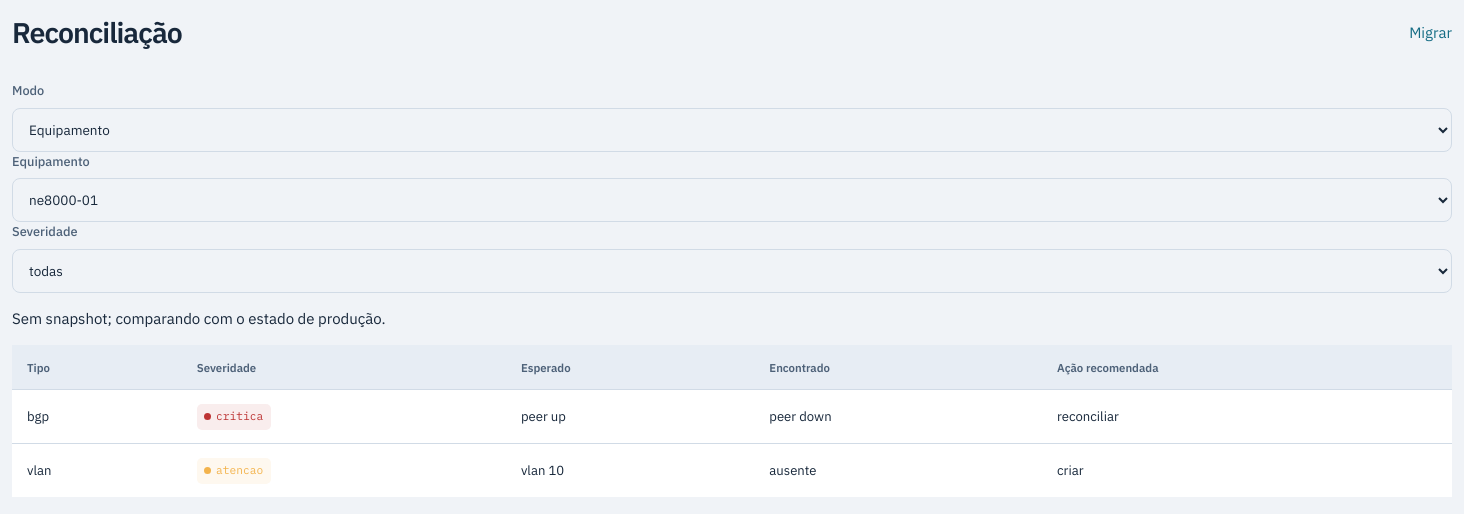
Reconcile › mostra divergências com aviso e filtra por severidade
The image size is (1464, 514).
Expected: the text "Sem snapshot; comparando com o estado de produção." is shown, x1=12 y1=309 x2=386 y2=328
Expected: the text "bgp" is shown, x1=12 y1=390 x2=182 y2=444
Select "critica" in the dropdown labelled "Severidade" at (732, 271), box x1=12 y1=249 x2=1452 y2=293
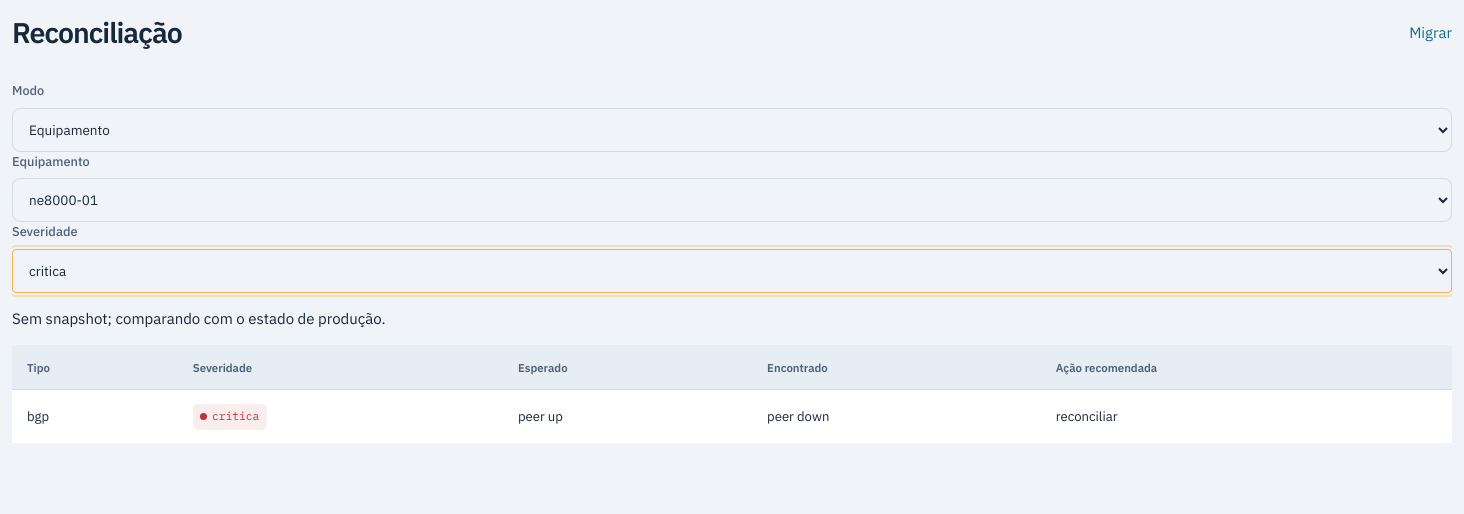
Expected: the text "bgp" is shown, x1=12 y1=390 x2=178 y2=443
Now the text "vlan" is gone
